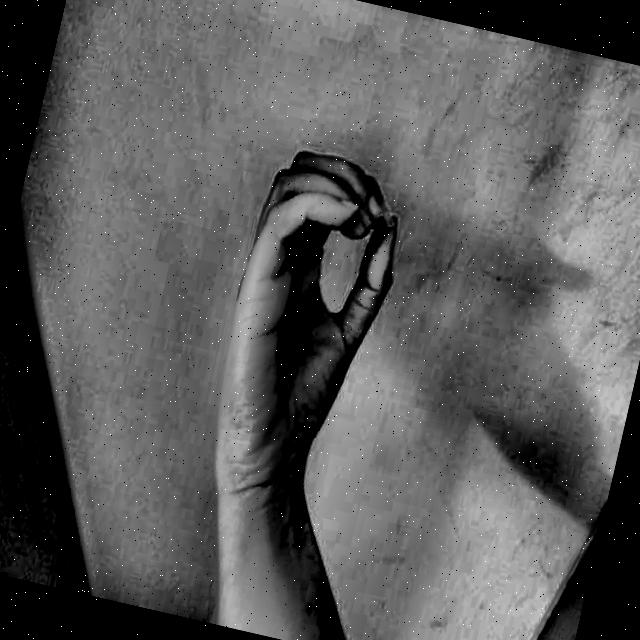O: (172, 108, 442, 526)
